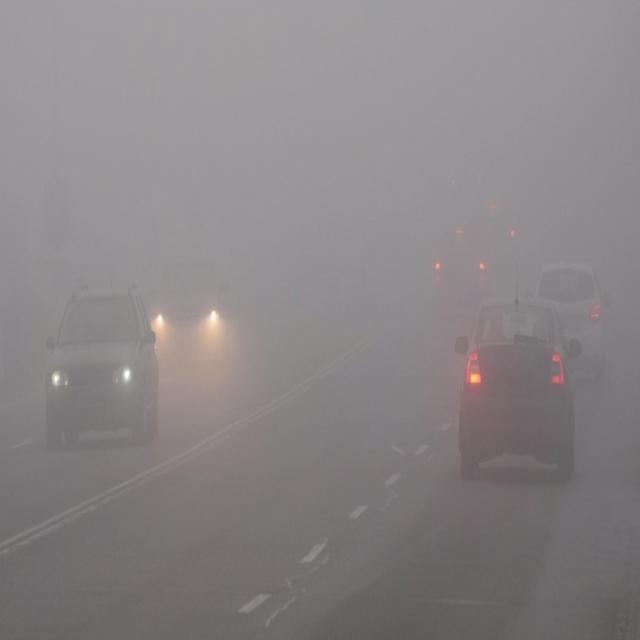car: (456, 294, 581, 476), (44, 286, 158, 449), (532, 261, 604, 385), (151, 252, 227, 367), (434, 225, 486, 305), (480, 194, 520, 266)
